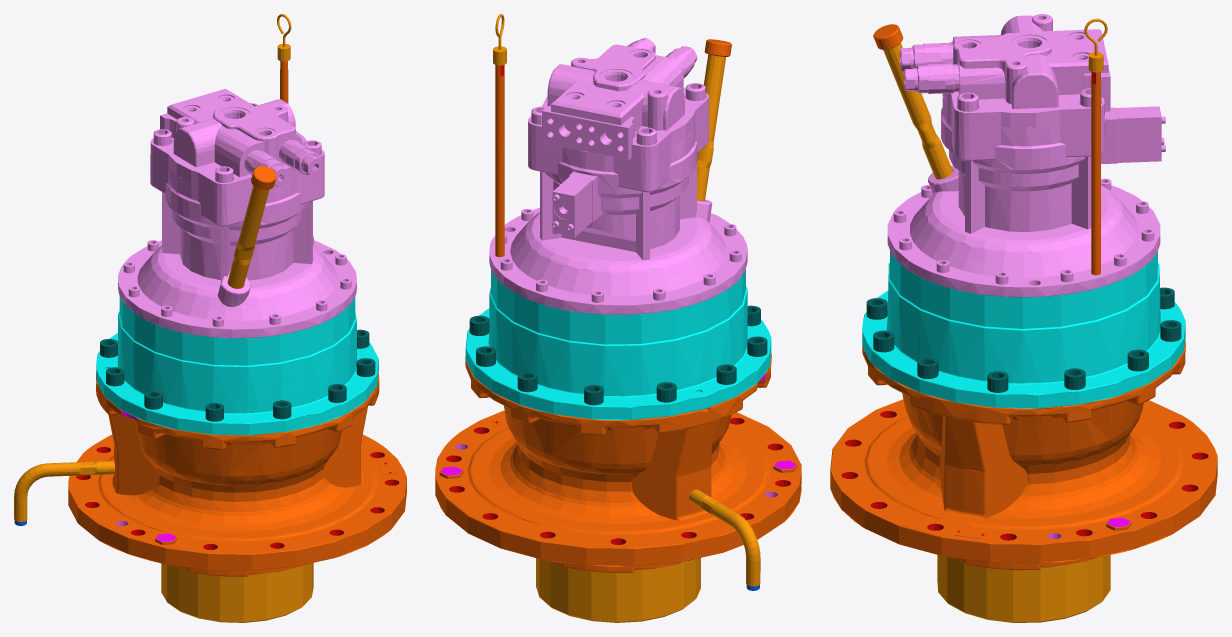
Rendered from swing_motor.glb.
The picture shows the model from 3 angles, left to right: view 1: azimuth 30°, elevation 25°; view 2: azimuth 150°, elevation 25°; view 3: azimuth 270°, elevation 25°; orthographic projection. The views are drawn at different scales.
Visible parts, largest first — view 1: ZX370GI_SWING_DEVICE9236592_A_004_9236592_A_0049236591_008_9 (×5), ZX370GI_SWING_DEVICE9236592_A_004_9236592_A_0044419718_003_4 (×4), ZX370GI_SWING_DEVICE9236592_A_004_9236592_A_0044388529_K_001; view 2: ZX370GI_SWING_DEVICE9236592_A_004_9236592_A_0049236591_008_9 (×6), ZX370GI_SWING_DEVICE9236592_A_004_9236592_A_0044419718_003_4 (×4), ZX370GI_SWING_DEVICE9236592_A_004_9236592_A_0044388529_K_001; view 3: ZX370GI_SWING_DEVICE9236592_A_004_9236592_A_0049236591_008_9 (×6), ZX370GI_SWING_DEVICE9236592_A_004_9236592_A_0044419718_003_4 (×5), ZX370GI_SWING_DEVICE9236592_A_004_9236592_A_0044388529_K_001, ZX370GI_SWING_DEVICE9236592_A_004_9236592_A_0044343365_K_001.
Boxes of the visible parts, x1,y1,x2,y2 form: ZX370GI_SWING_DEVICE9236592_A_004_9236592_A_0049236591_008_9 (×5): [14, 296, 406, 622]; ZX370GI_SWING_DEVICE9236592_A_004_9236592_A_0044419718_003_4 (×4): [118, 88, 356, 338]; ZX370GI_SWING_DEVICE9236592_A_004_9236592_A_0044388529_K_001: [227, 186, 269, 288]; ZX370GI_SWING_DEVICE9236592_A_004_9236592_A_0049236591_008_9 (×6): [435, 65, 801, 622]; ZX370GI_SWING_DEVICE9236592_A_004_9236592_A_0044419718_003_4 (×4): [489, 44, 747, 314]; ZX370GI_SWING_DEVICE9236592_A_004_9236592_A_0044388529_K_001: [697, 54, 725, 201]; ZX370GI_SWING_DEVICE9236592_A_004_9236592_A_0049236591_008_9 (×6): [830, 18, 1217, 622]; ZX370GI_SWING_DEVICE9236592_A_004_9236592_A_0044419718_003_4 (×5): [887, 14, 1165, 297]; ZX370GI_SWING_DEVICE9236592_A_004_9236592_A_0044388529_K_001: [883, 43, 952, 179]; ZX370GI_SWING_DEVICE9236592_A_004_9236592_A_0044343365_K_001: [873, 24, 903, 49].
Bounding box in the file's own units: 1.81 × 2.86 × 1.64.
